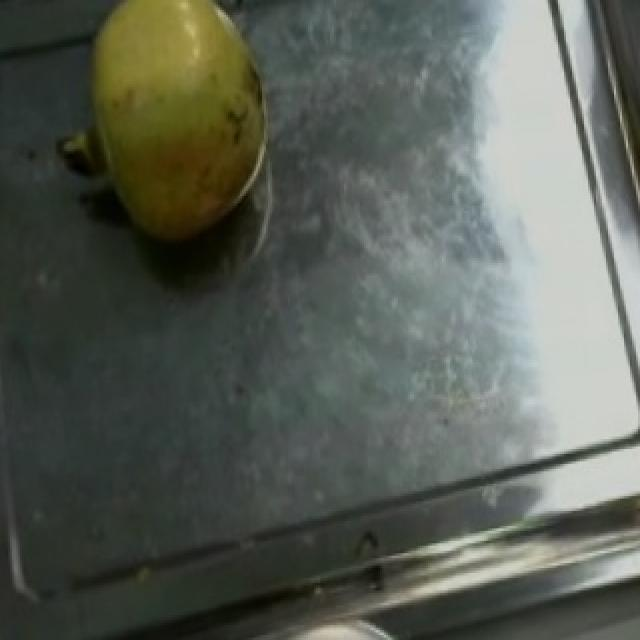fruit: (38, 0, 304, 256)
